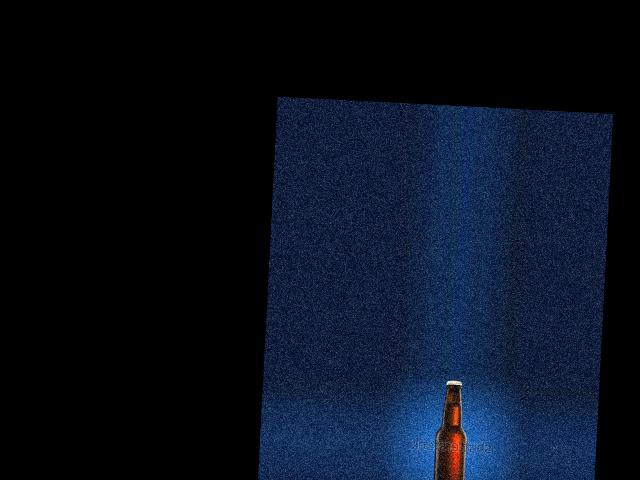beer: (431, 379, 469, 480)
